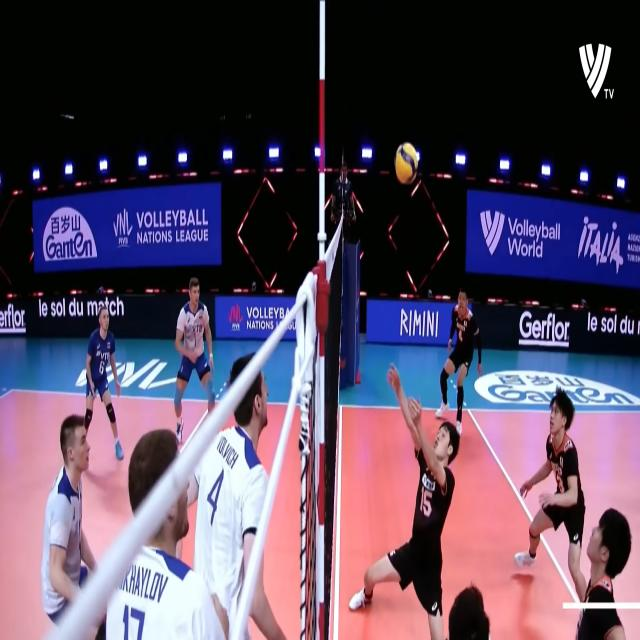player: (348, 372, 460, 640), (516, 390, 596, 603), (39, 407, 102, 628), (175, 279, 218, 443), (439, 288, 485, 431), (84, 303, 122, 462)
